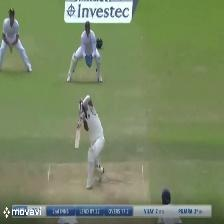batsman: (73, 93, 106, 191)
